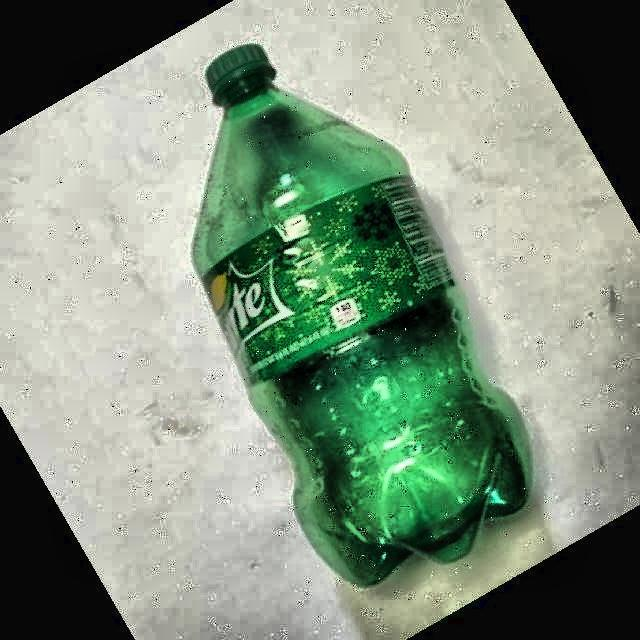plastic: (194, 45, 531, 584)
